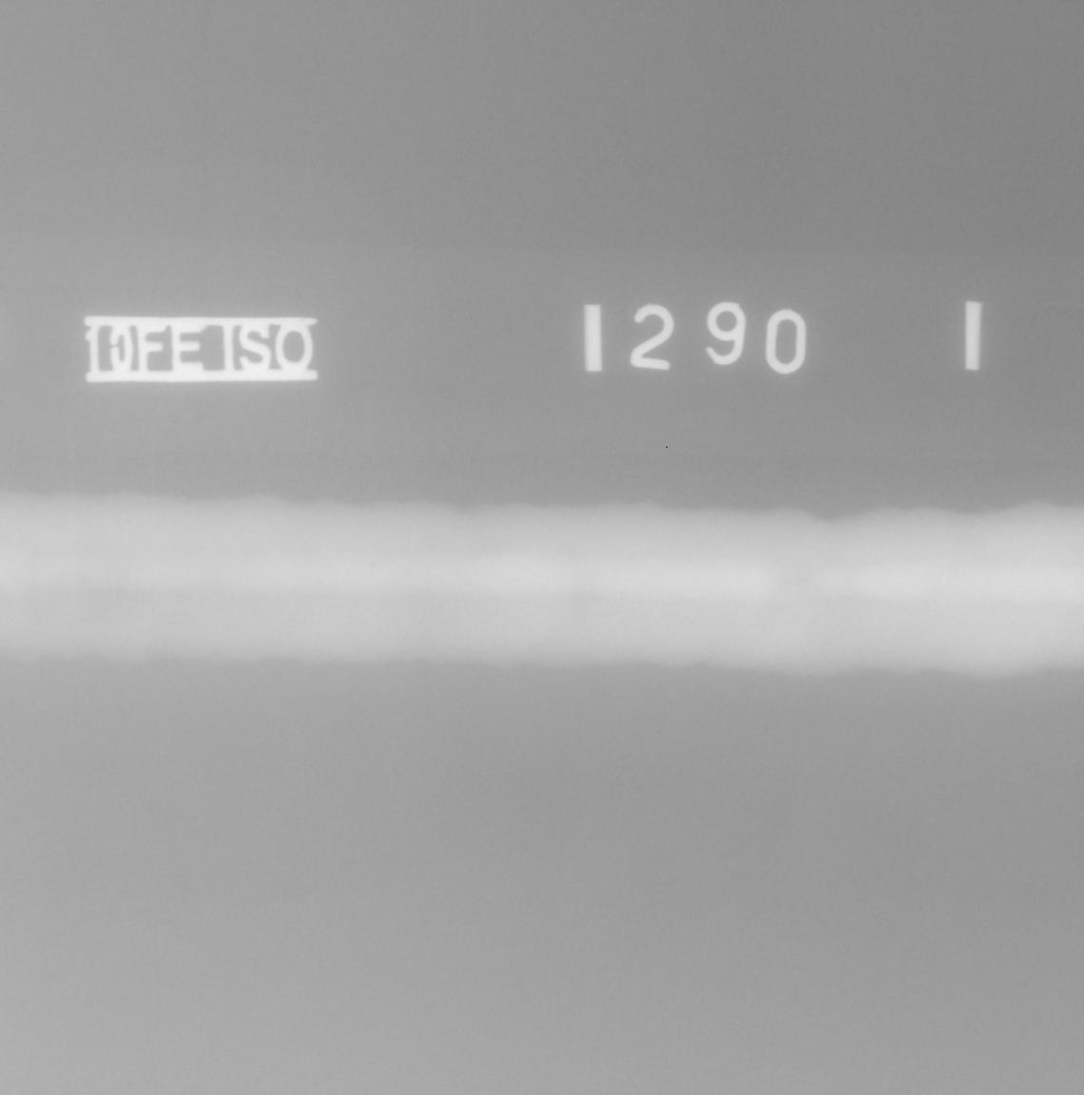Incomplete Root Penetration: (788, 578, 808, 585)
